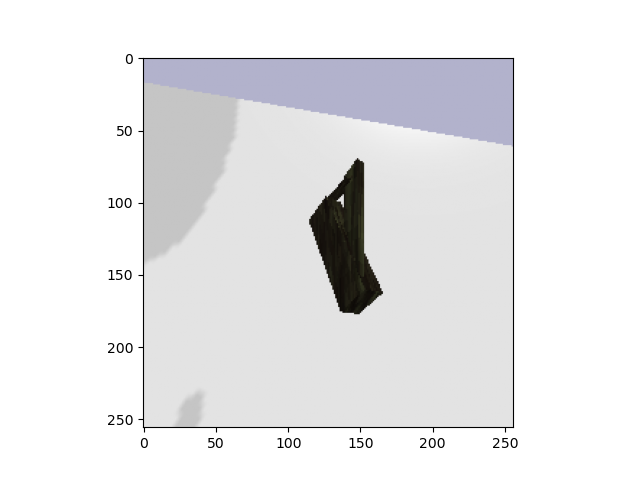v249b387_109: (291, 156, 394, 319)
